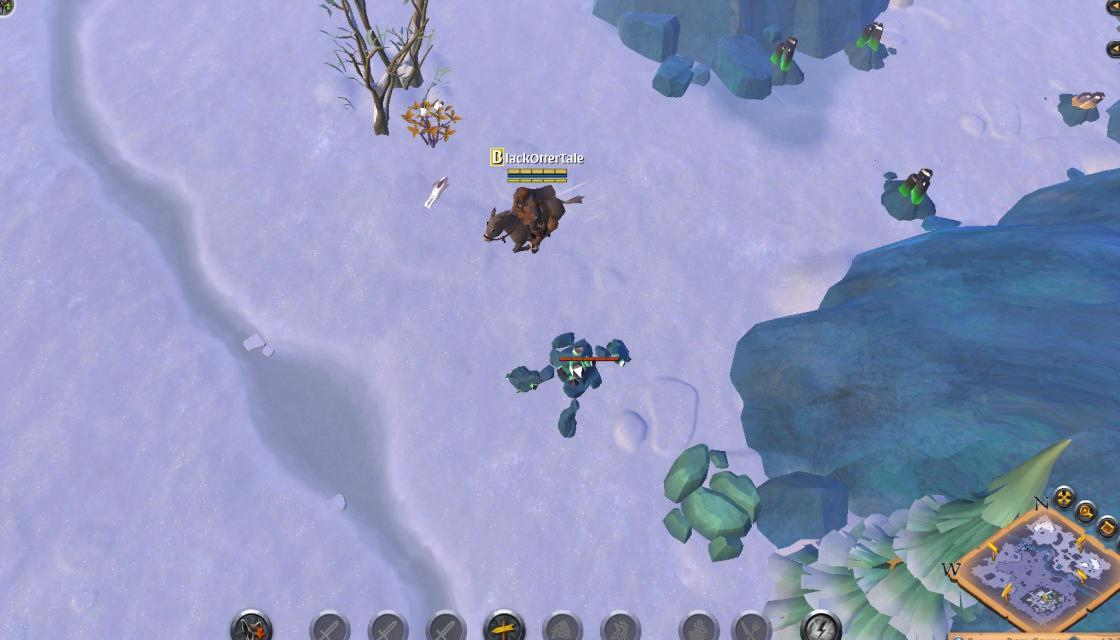copperore: (1052, 80, 1108, 128)
sandstone: (656, 442, 766, 562)
tinore: (877, 166, 944, 227), (844, 18, 892, 74), (766, 35, 808, 89)
